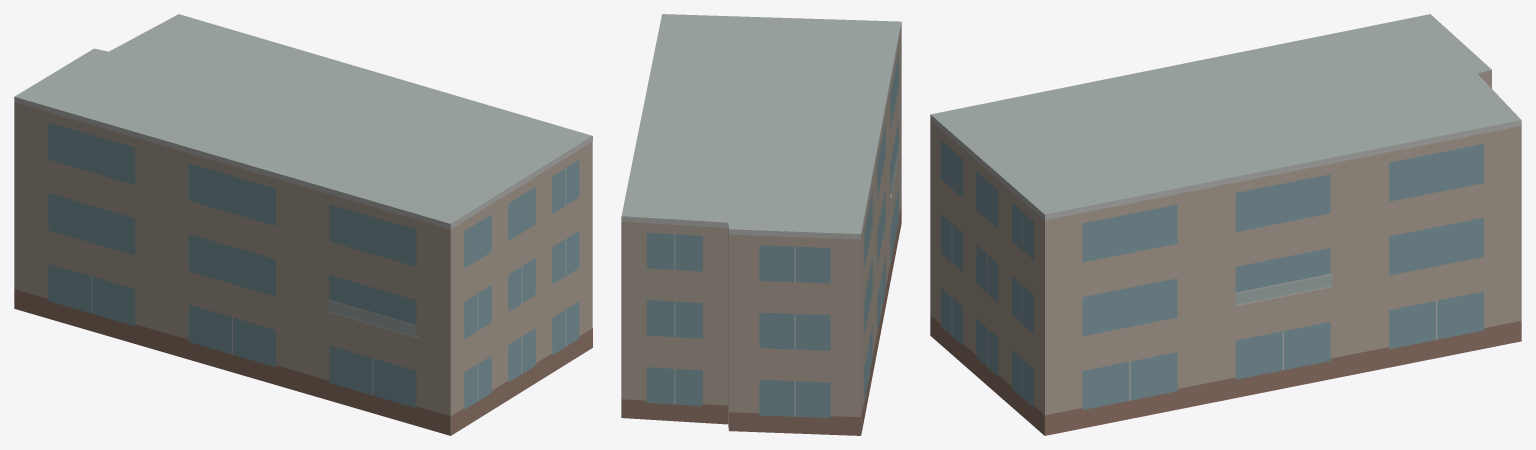
File: survey-upis-32688501.glb
3 renders of one model, left to right at view 1: azimuth 30°, elevation 25°; view 2: azimuth 150°, elevation 25°; view 3: azimuth 270°, elevation 25°, orthographic. The views are drawn at different scales.
Parts seen in each view (by area): view 1: survey-upis-32688501.tmp; view 2: survey-upis-32688501.tmp; view 3: survey-upis-32688501.tmp.
Part boxes in pixels (bbox=[...]): survey-upis-32688501.tmp: bbox=[14, 14, 592, 435]; survey-upis-32688501.tmp: bbox=[621, 14, 901, 435]; survey-upis-32688501.tmp: bbox=[930, 14, 1521, 435].
Size of the model in its own units: 17.8 by 9.15 by 22.16.
